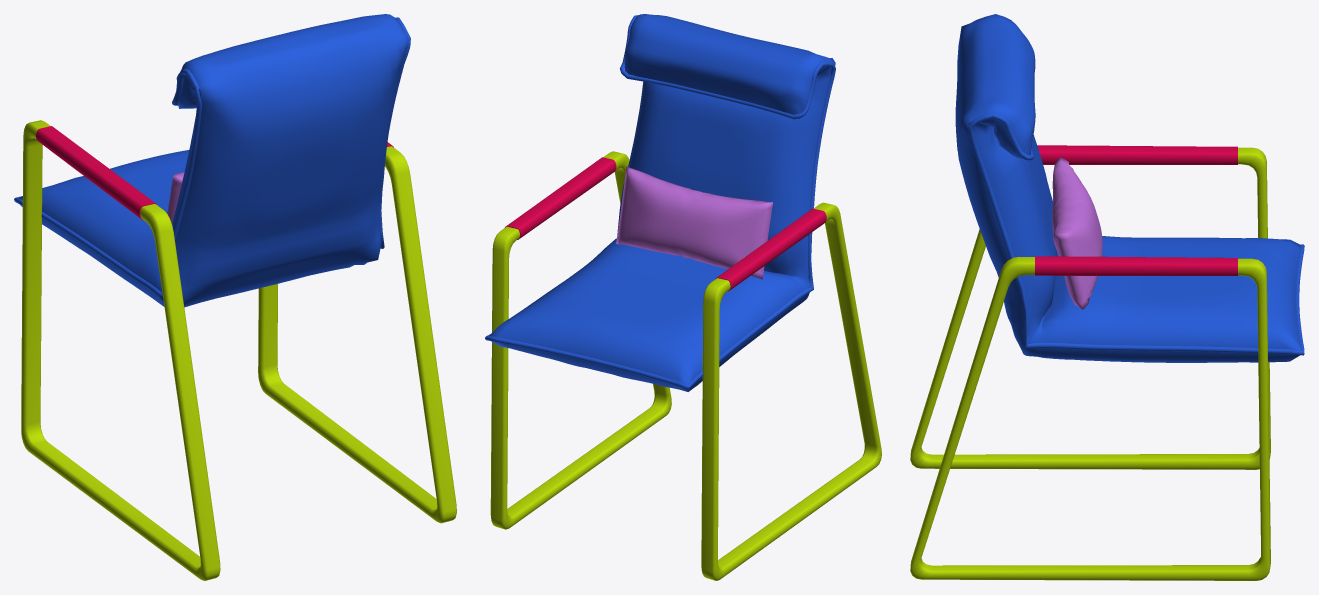
Rendered from XOBC_010.fbx.
3 renders of one model, left to right at view 1: azimuth 30°, elevation 25°; view 2: azimuth 150°, elevation 25°; view 3: azimuth 270°, elevation 25°, orthographic. The views are drawn at different scales.
Visible parts, largest first — view 1: Cube; view 2: Cube; view 3: Cube.
Boxes of the visible parts, box(x1,y1,x2,y2) form: Cube: box(14, 14, 456, 580); Cube: box(485, 14, 881, 580); Cube: box(910, 14, 1304, 580).
Size of the model in its own units: 68.85 by 123 by 94.99.
